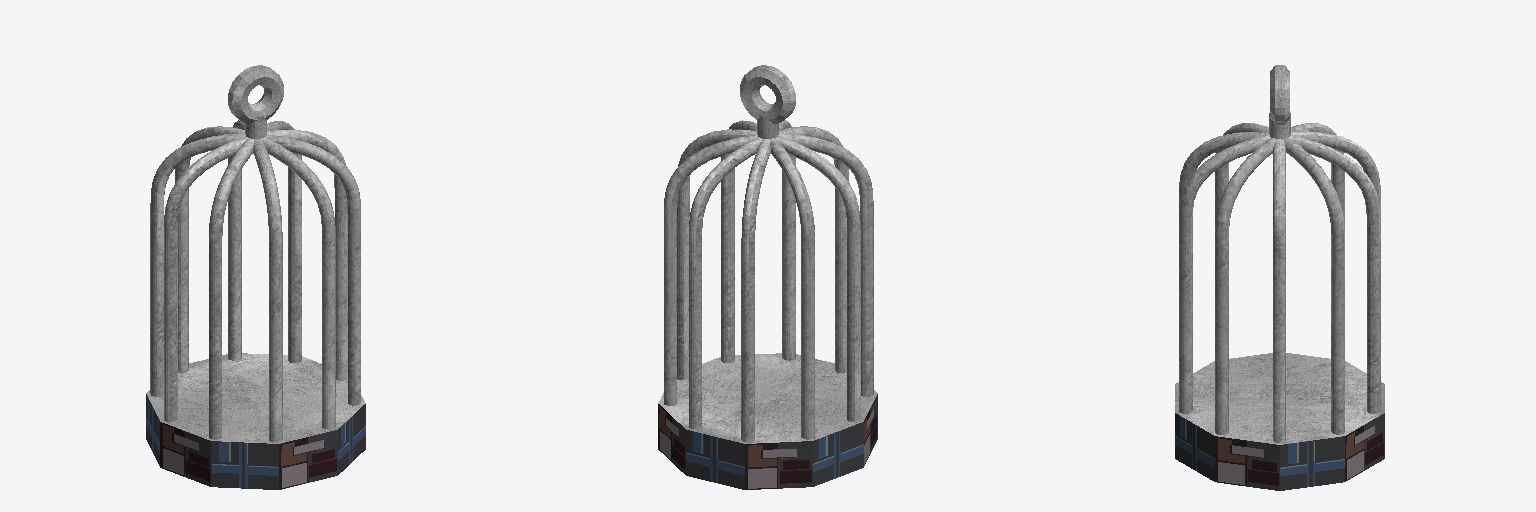
The picture shows the model from 3 angles: view 1: azimuth 30°, elevation 25°; view 2: azimuth 150°, elevation 25°; view 3: azimuth 270°, elevation 25°; orthographic projection.
Visible parts, largest first — view 1: pasted__pasted__group22_pasted__pasted__pasted__group20_pasted__; view 2: pasted__pasted__group22_pasted__pasted__pasted__group20_pasted__; view 3: pasted__pasted__group22_pasted__pasted__pasted__group20_pasted__.
Part boxes in pixels (bbox=[...]): pasted__pasted__group22_pasted__pasted__pasted__group20_pasted__: bbox=[146, 65, 365, 489]; pasted__pasted__group22_pasted__pasted__pasted__group20_pasted__: bbox=[658, 65, 877, 489]; pasted__pasted__group22_pasted__pasted__pasted__group20_pasted__: bbox=[1175, 65, 1384, 490].
Size of the model in its own units: 2.83 by 5.35 by 2.7.
Materials: 3 (3 with a texture image).